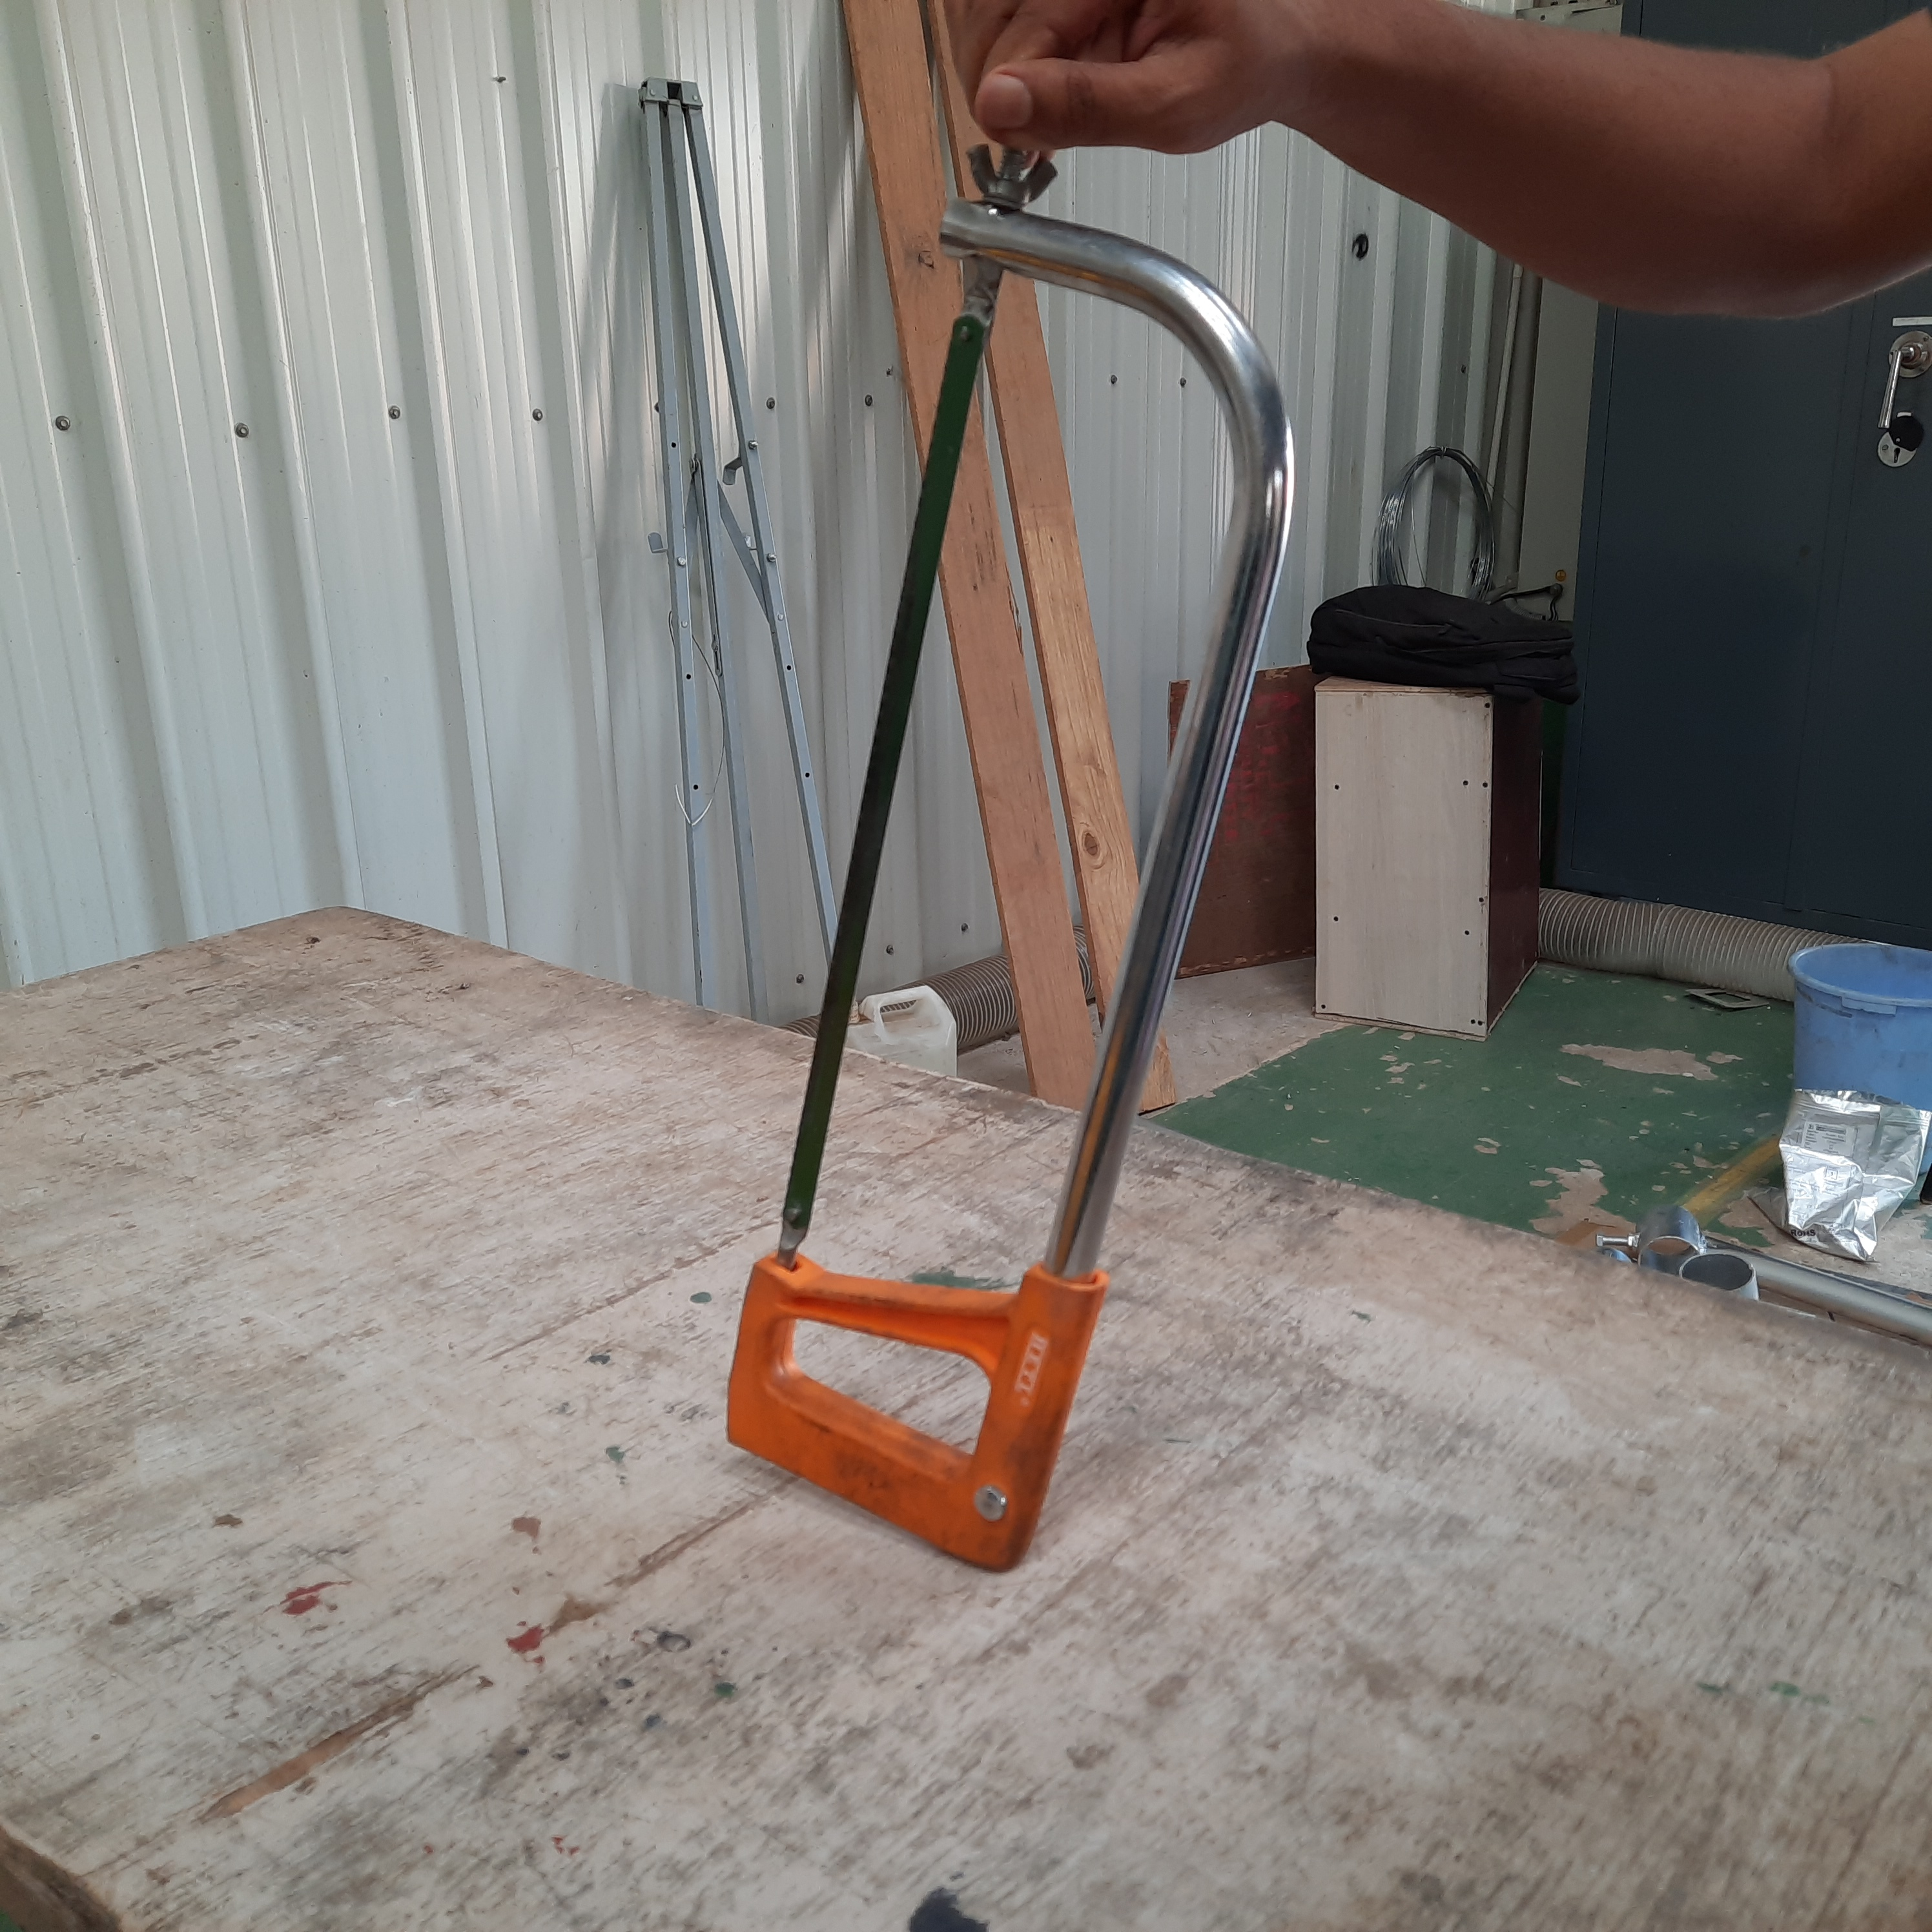Hexaframe: (709, 152, 1309, 1562)
